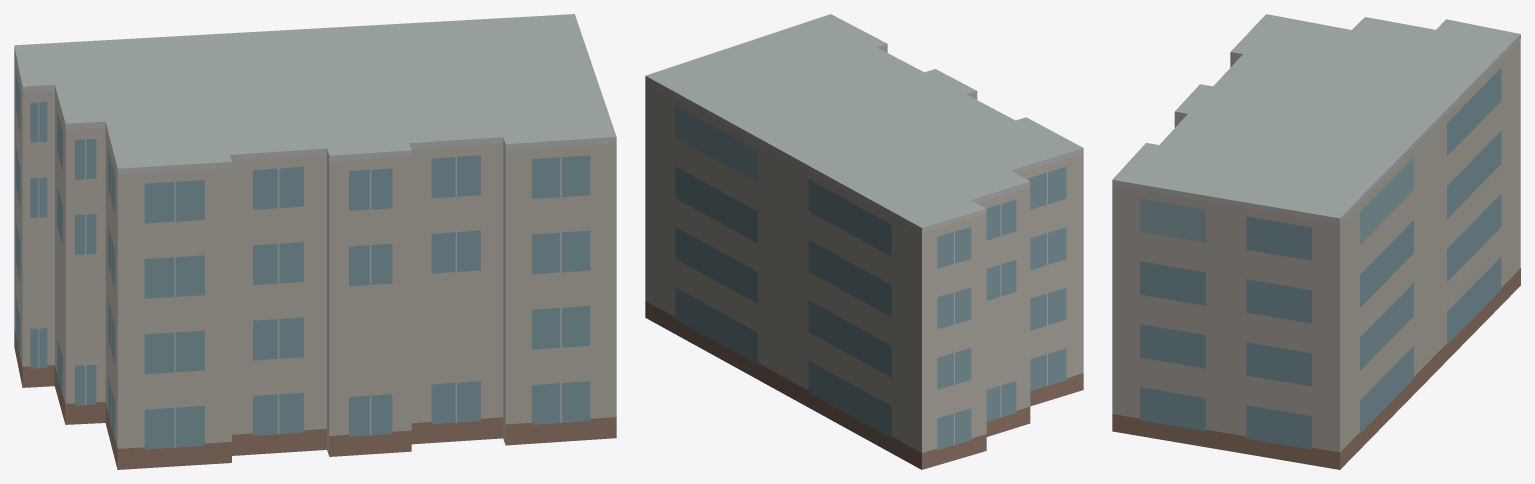
Rendered from survey-upis-32989870.glb.
3 views of the same model, side by side, from view 1: azimuth 30°, elevation 25°; view 2: azimuth 150°, elevation 25°; view 3: azimuth 270°, elevation 25° (orthographic). The views are drawn at different scales.
Parts seen in each view (by area): view 1: survey-upis-32989870.tmp; view 2: survey-upis-32989870.tmp; view 3: survey-upis-32989870.tmp.
Part boxes in pixels (<box>): survey-upis-32989870.tmp: <box>14,14,616,469</box>; survey-upis-32989870.tmp: <box>645,14,1083,469</box>; survey-upis-32989870.tmp: <box>1112,14,1520,469</box>.
Bounding box in the file's own units: 20.65 × 11.85 × 17.45.
